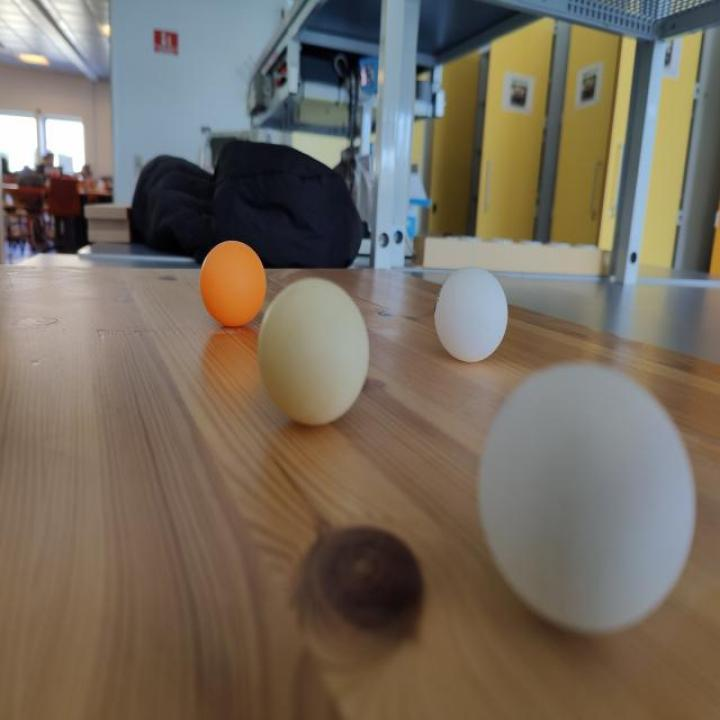orange: (198, 241, 268, 331)
white: (475, 362, 695, 638), (257, 279, 371, 429), (435, 268, 509, 366)
